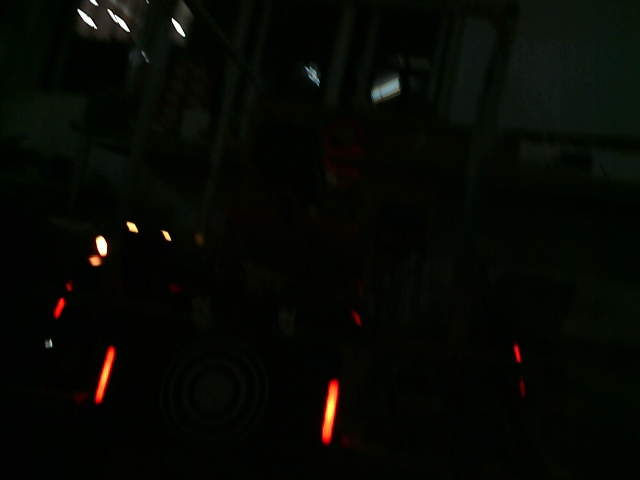lamp: (315, 374, 342, 446), (92, 345, 117, 407)
